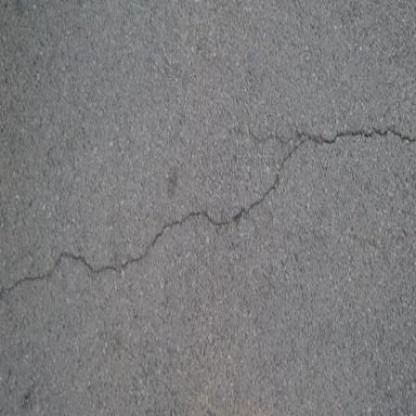Cracks: (3, 103, 416, 319)
